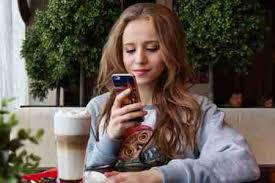0: (128, 24, 156, 85)
Hand: (101, 95, 147, 139)
Smartphone: (113, 76, 146, 128)
